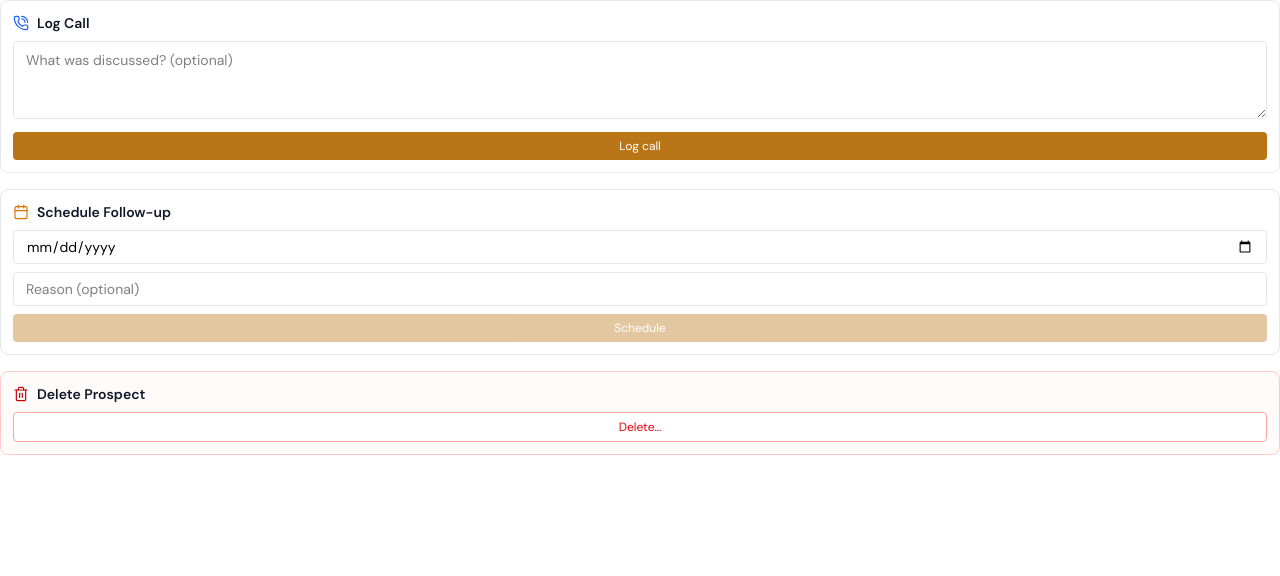
Test: ActionsTab renders the delete refusal › a BROKER sees the refusal and is told who can inactivate; no Inactivate control is offered
This screenshot has width=1280, height=576.
Click the button "Delete…". click: (640, 427)
box: [13,412,1267,442]
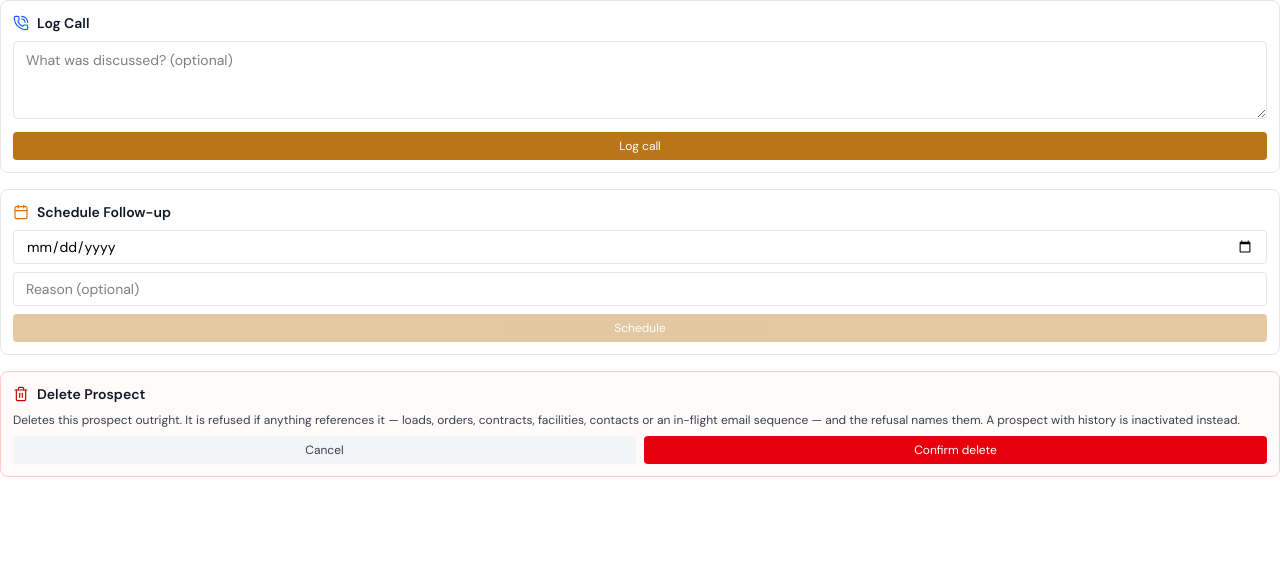
Click the button "Confirm delete". click: (956, 450)
box: [644,436,1267,464]
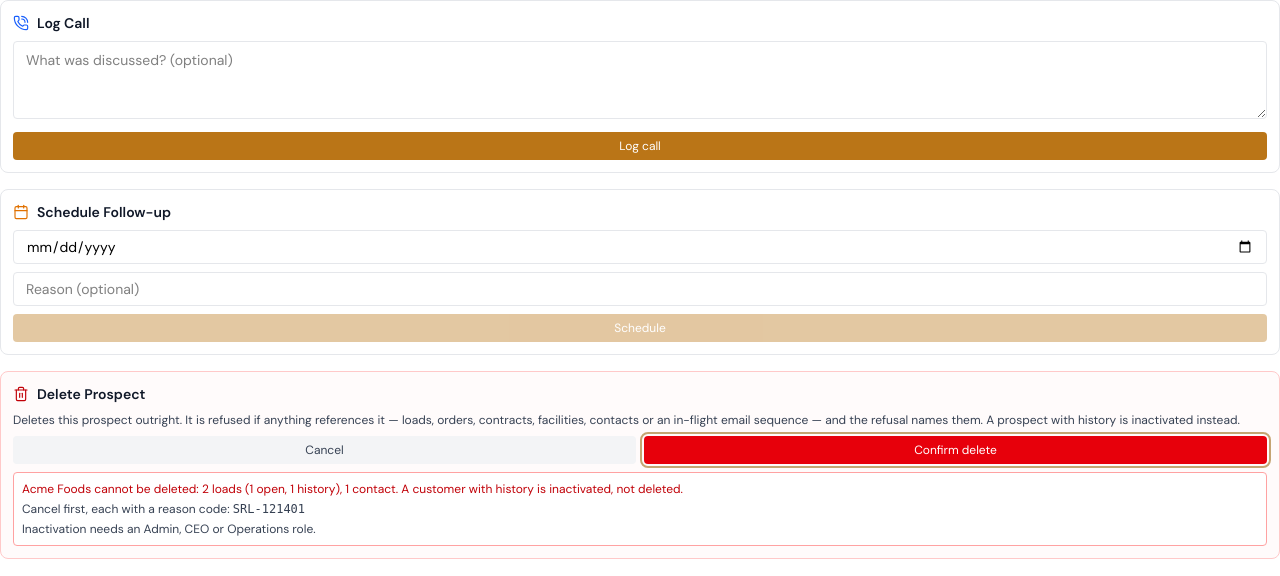
Now the message shows "Inactivation needs an Admin, CEO or Operations role", box [22,521,316,537]
